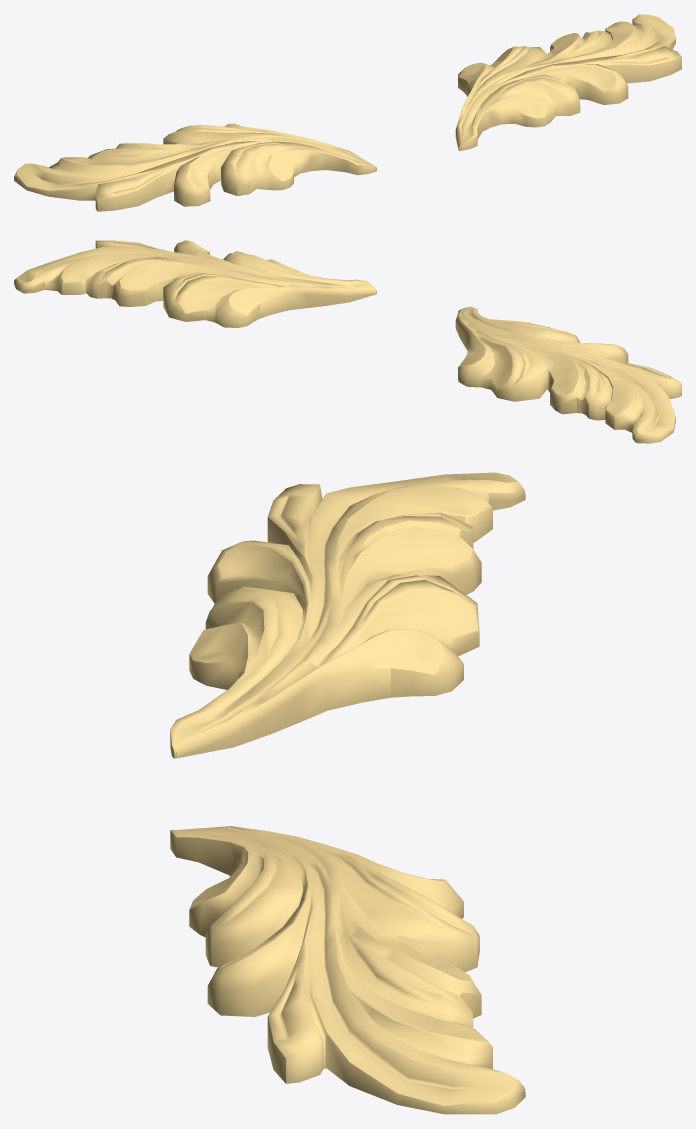
The model's file is carved-decor.glb.
3 views of the same model, one above another, from view 1: azimuth 30°, elevation 25°; view 2: azimuth 150°, elevation 25°; view 3: azimuth 270°, elevation 25° (orthographic). The views are drawn at different scales.
Visible parts, largest first — view 1: FL17.001, FL17.000; view 2: FL17.000, FL17.001; view 3: FL17.000, FL17.001.
Part boxes in pixels (x1,y1,x2,y2): FL17.001: (14, 123, 376, 211); FL17.000: (455, 14, 681, 150); FL17.000: (14, 240, 376, 327); FL17.001: (455, 306, 681, 443); FL17.000: (170, 826, 525, 1114); FL17.001: (170, 472, 525, 758).
Size of the model in its own units: 3.17 by 0.1444 by 0.7543.
